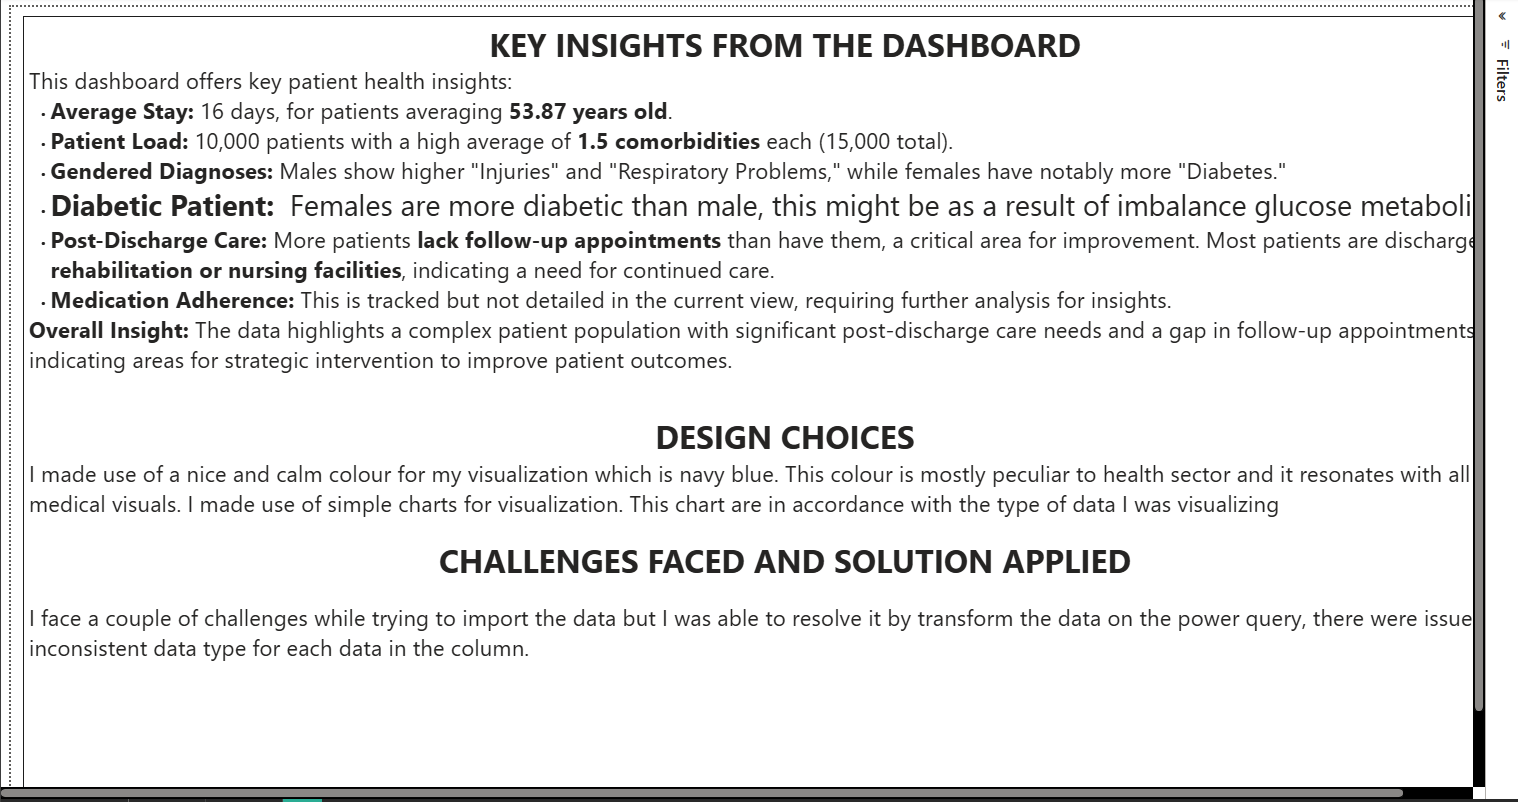

What the dashboard file says about the page in this screenshot:
{"tool":"powerbi","page":{"name":"Page 2","canvas":[1280,720],"ordinal":1},"visuals":[{"type":"textbox","box":[10,7.8,1270,712.2],"z":0}]}

Visuals, with their boxes on the page's 1280x720 design canvas (x1, y1, x2, y2). These are canvas units, not pixel positions in the 1518x802 screenshot, which may show the page scaled, cropped or inside an application window:
textbox: (x1=10, y1=8, x2=1280, y2=720)
